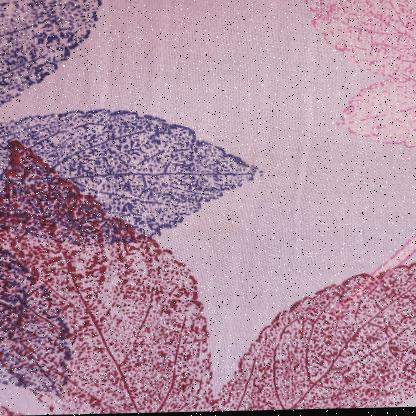spot: (170, 200, 242, 244), (241, 153, 273, 171)
